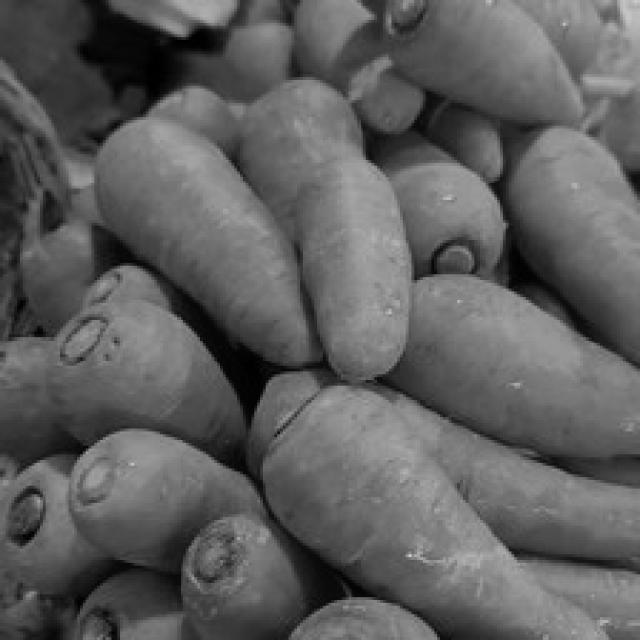Fresh_Carrot: (248, 388, 640, 640), (248, 78, 415, 404)
